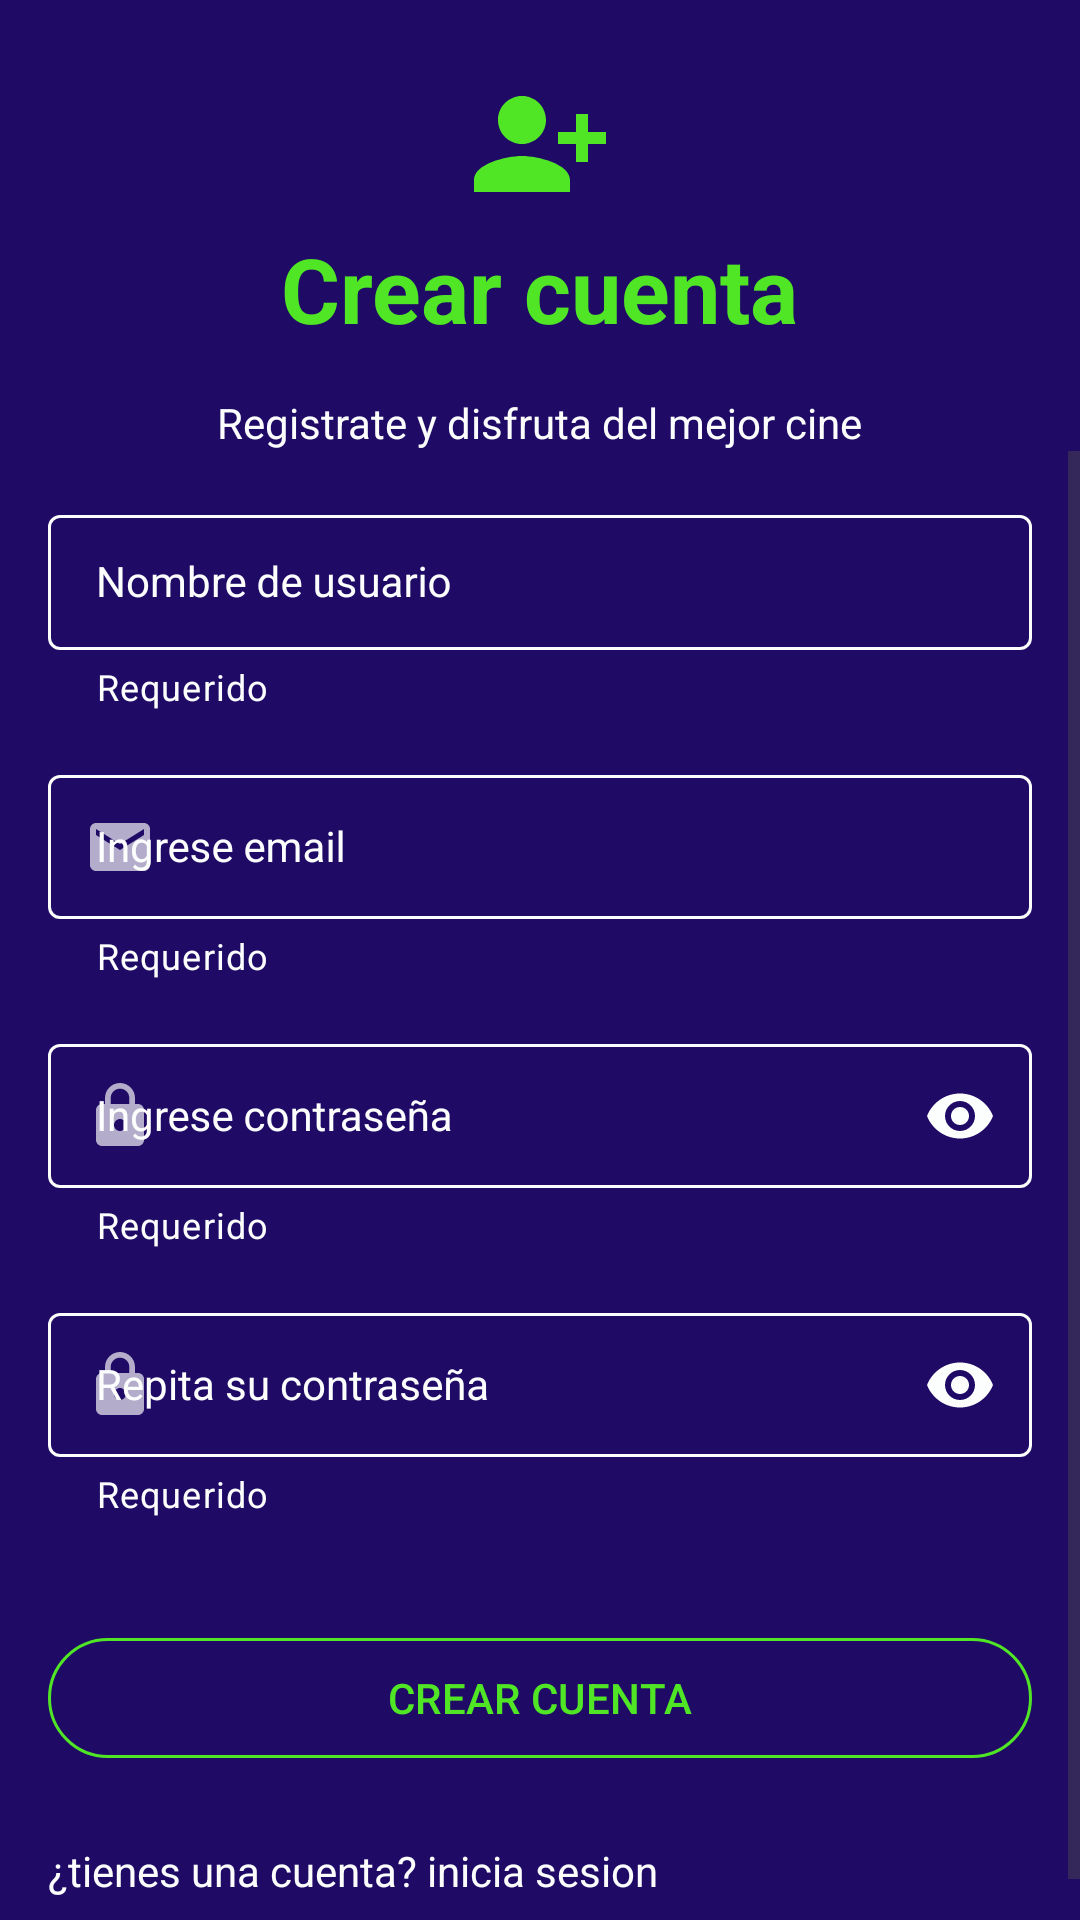

Locate icon controls on the screen. Image size 1080*1920, boxes as (x1, y1, x2, y2).
person add: (474, 96, 606, 192)
